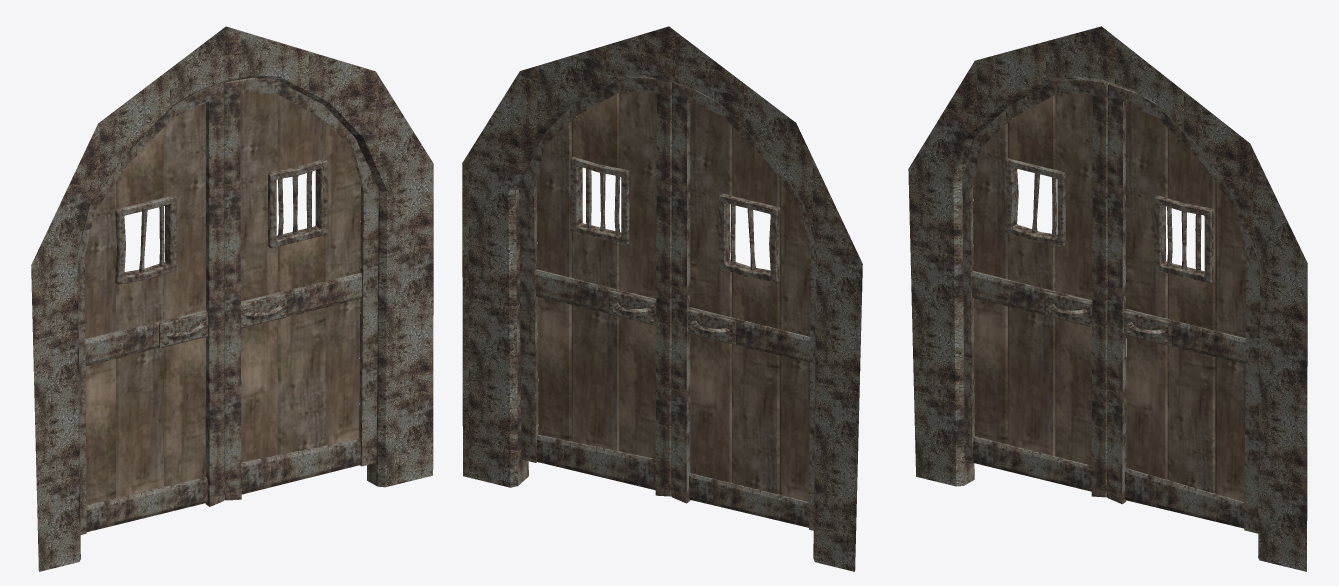
Rendered from TW2_5_HOUSE_04_GATE3-transformed.glb.
3 views of the same model, side by side, from view 1: azimuth 30°, elevation 25°; view 2: azimuth 150°, elevation 25°; view 3: azimuth 330°, elevation 25° (orthographic).
Parts seen in each view (by area): view 1: default; view 2: default; view 3: default.
Part boxes in pixels (box(x1,y1,x2,y2)): default: box(31, 26, 433, 571); default: box(462, 26, 862, 571); default: box(908, 26, 1307, 571).
Bounding box in the file's own units: 2.65 × 3.17 × 0.2224.
2 materials, 2 textured.
